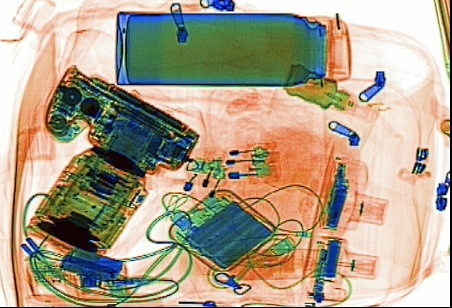powerbank: (165, 187, 280, 276)
